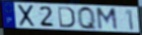1: (125, 9, 135, 31)
2: (38, 6, 56, 28)
D: (57, 6, 76, 28)
M: (95, 8, 120, 32)
Q: (77, 6, 99, 32)
X: (17, 4, 36, 28)
